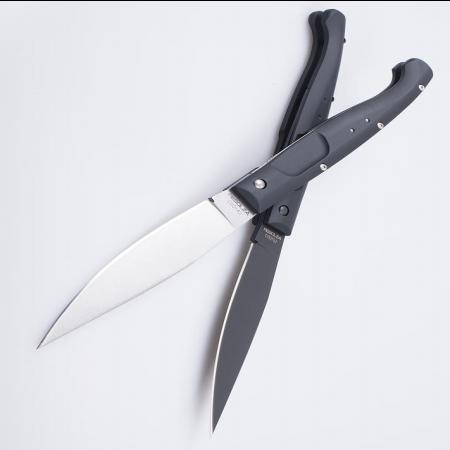long weapon: (30, 183, 262, 354), (207, 214, 290, 436)
